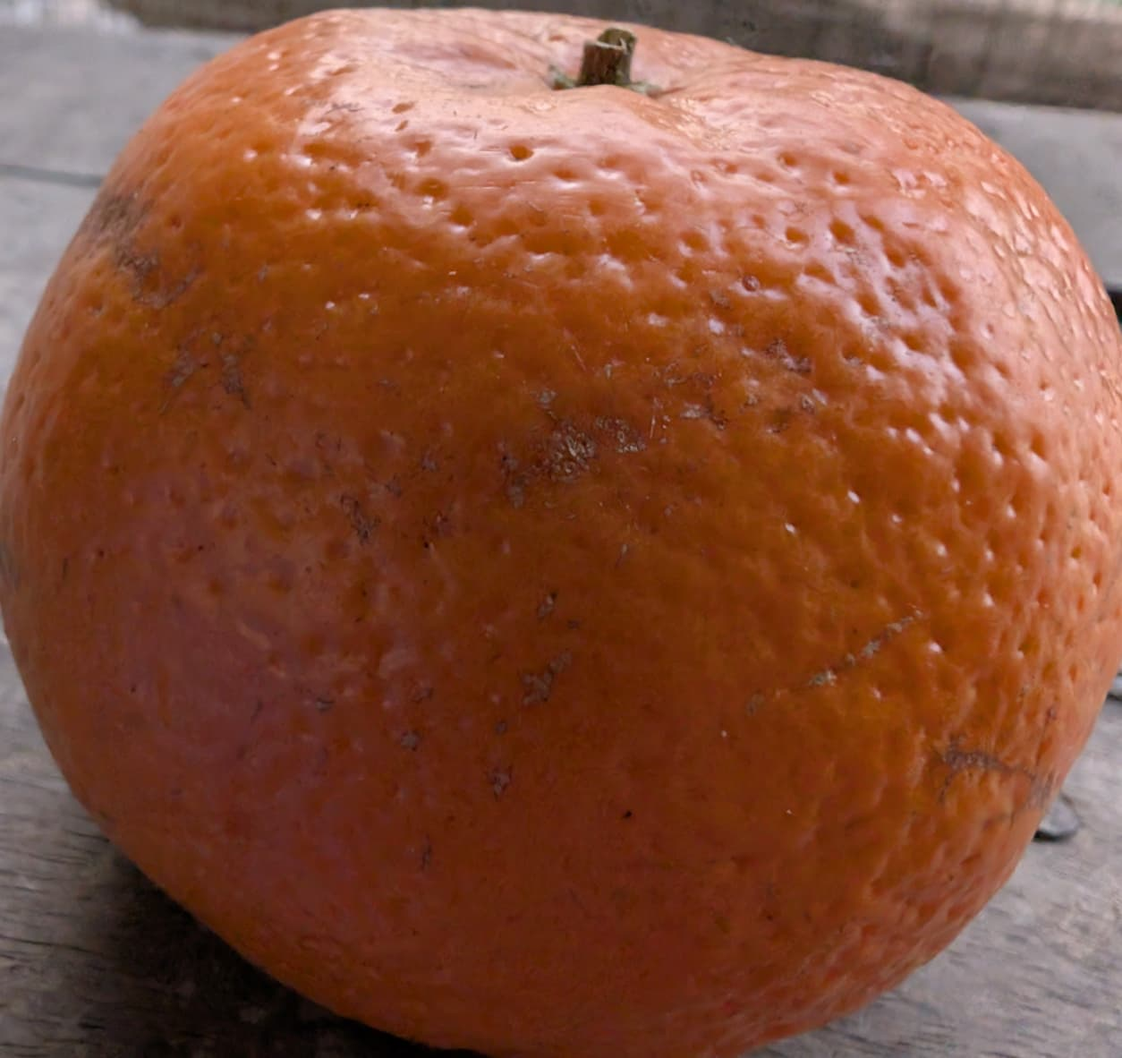orange: (115, 261, 908, 927)
